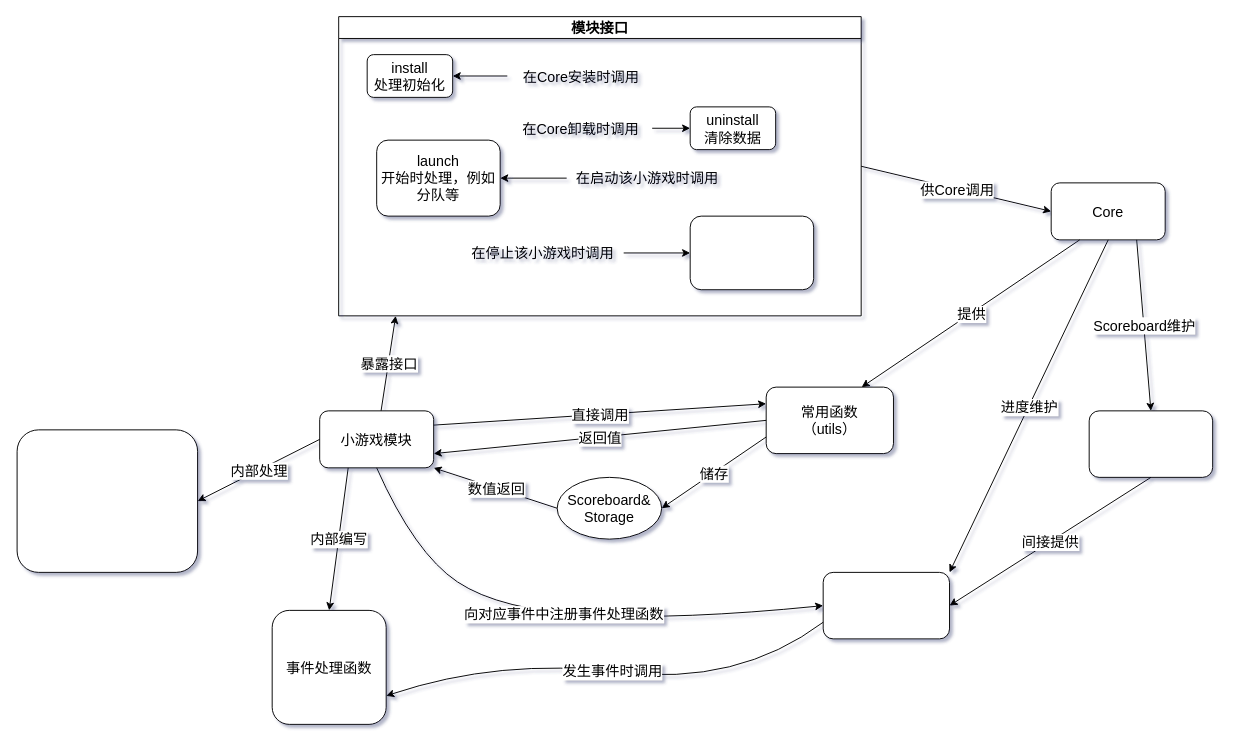
The diagram is 1235 pixels wide and 747 high, and some of its shapes have lost their labels. The shapes that lost their labels are listed below. From the top down, each one's centre as x and y in pixels, then its label:
At point 751,252: "stop 数据清理，结束游戏逻辑等".
At point 1150,443: "信息统计 （Statistics）".
At point 107,500: "具体游戏逻辑完全由小游戏模块本身处理".
At point 886,605: "事件系统 （Verbs）".
